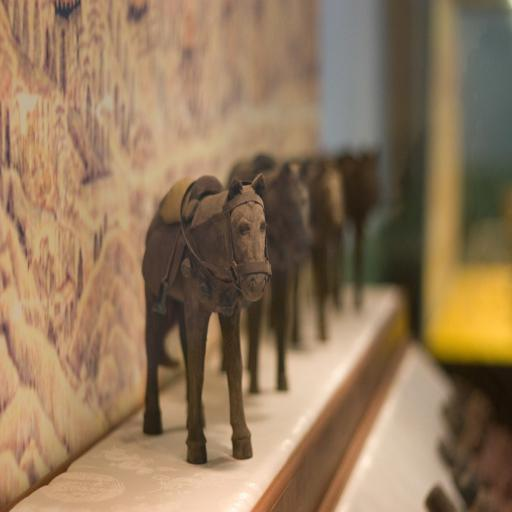horse: (140, 174, 273, 460), (227, 149, 313, 391), (288, 164, 348, 344)
